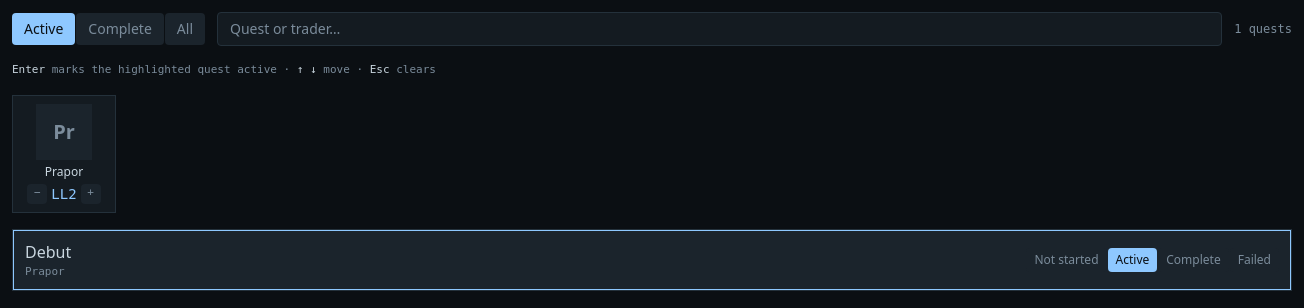
it: marking a quest active from the keyboard › says so when the quest is already active, rather than going quiet
This screenshot has width=1304, height=308.
Expected: the text "Debut" is shown, left=25, top=240, right=71, bottom=264
Click the dropdown: [720, 29] box left=217, top=12, right=1222, bottom=46
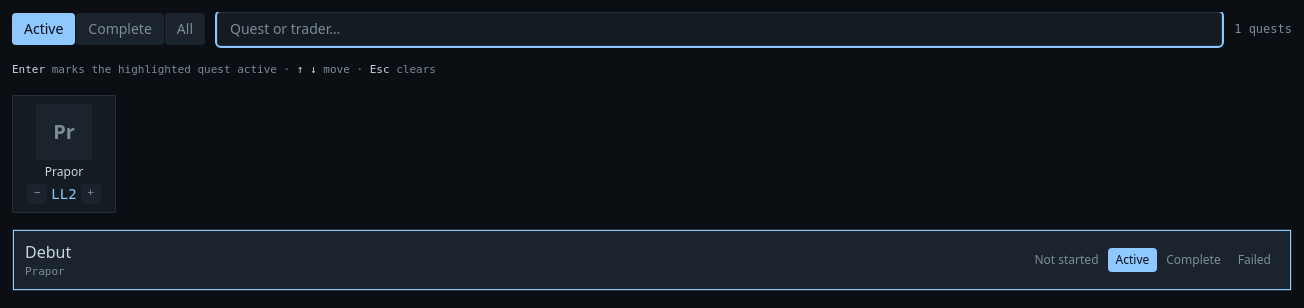
Type keys "Debut{Enter}"
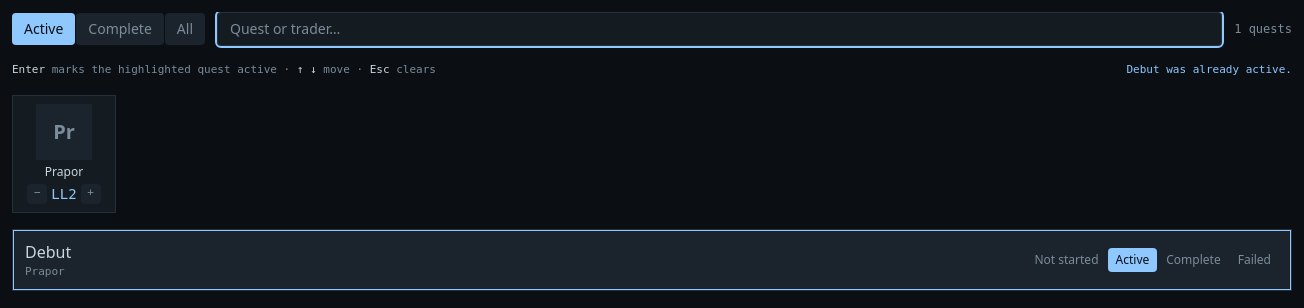
Expected: the dropdown is empty, left=217, top=12, right=1222, bottom=46
Now the text "Debut was already active." is shown, box left=1126, top=62, right=1292, bottom=78
